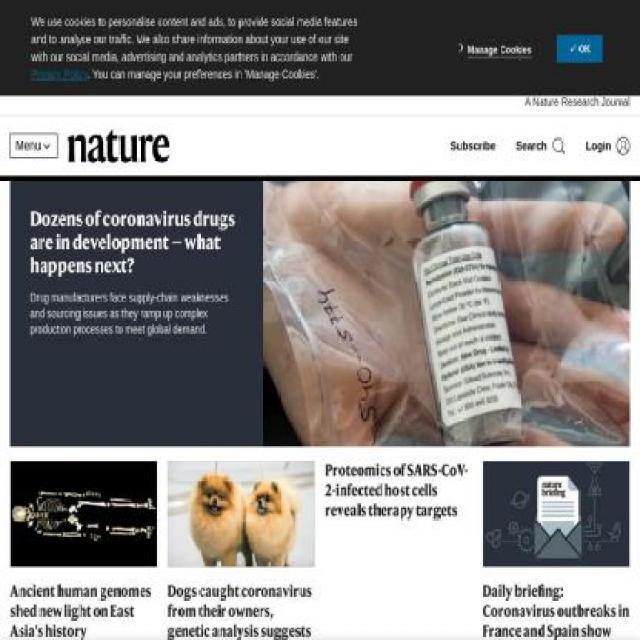button: (68, 129, 169, 163), (9, 132, 58, 158), (467, 42, 531, 58), (516, 136, 566, 156), (585, 136, 630, 156), (450, 137, 496, 154), (568, 41, 590, 56)
